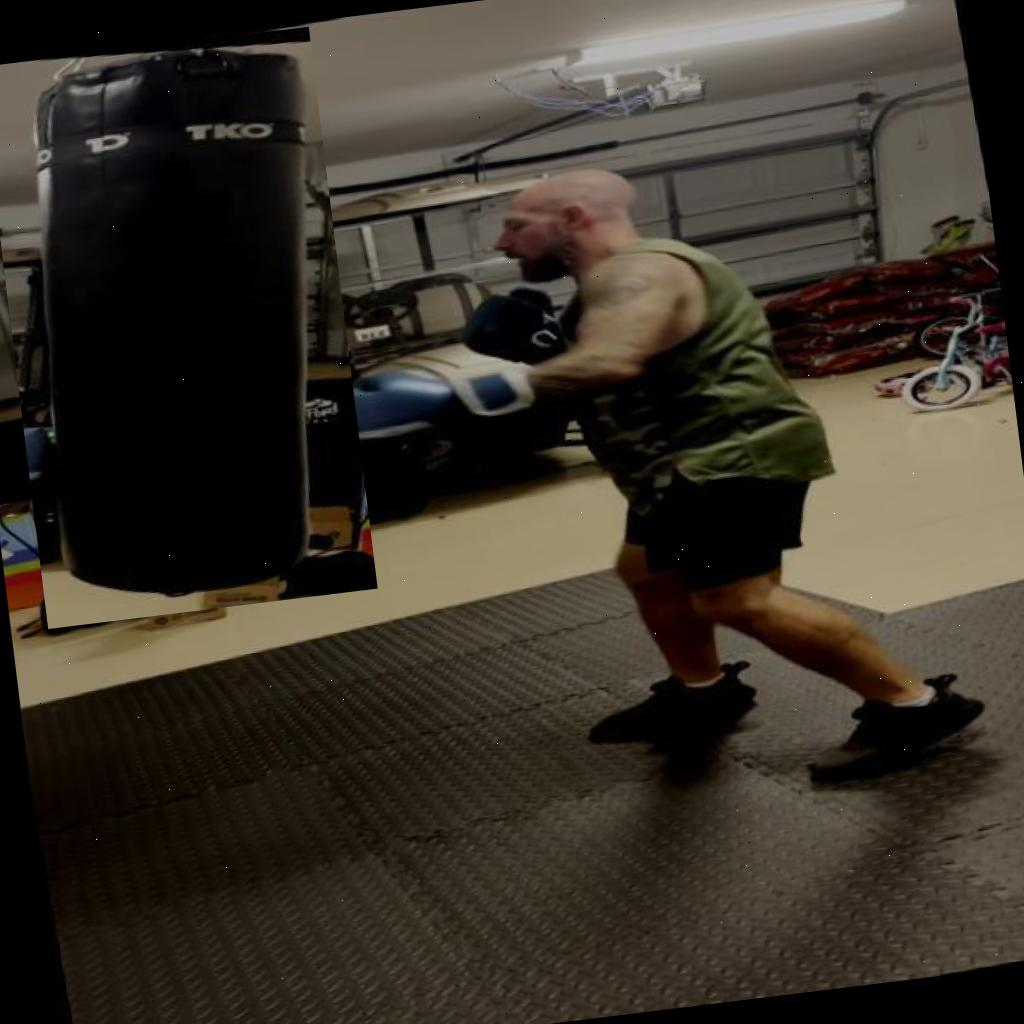bag: (0, 26, 378, 628)
hook: (228, 136, 734, 496)
